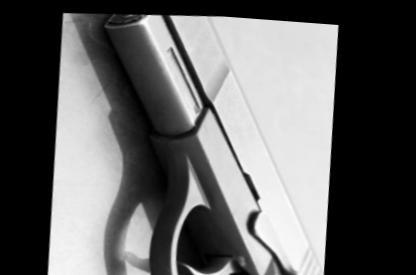pistol: (81, 6, 355, 273)
